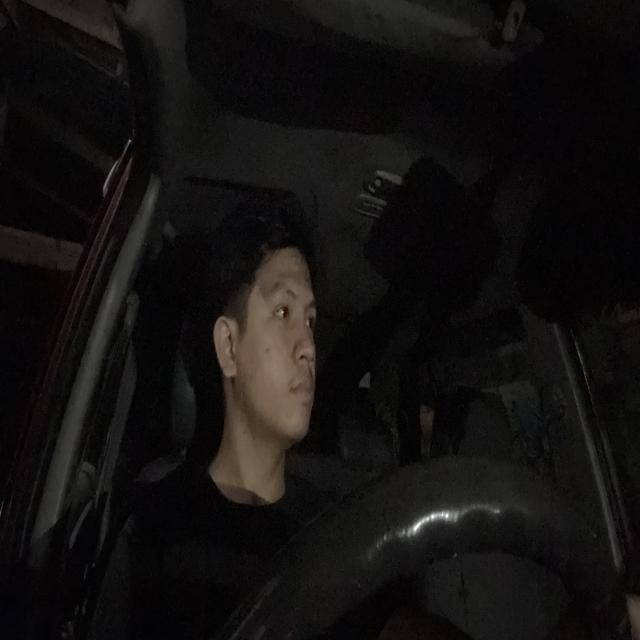open: (267, 282, 300, 334)
